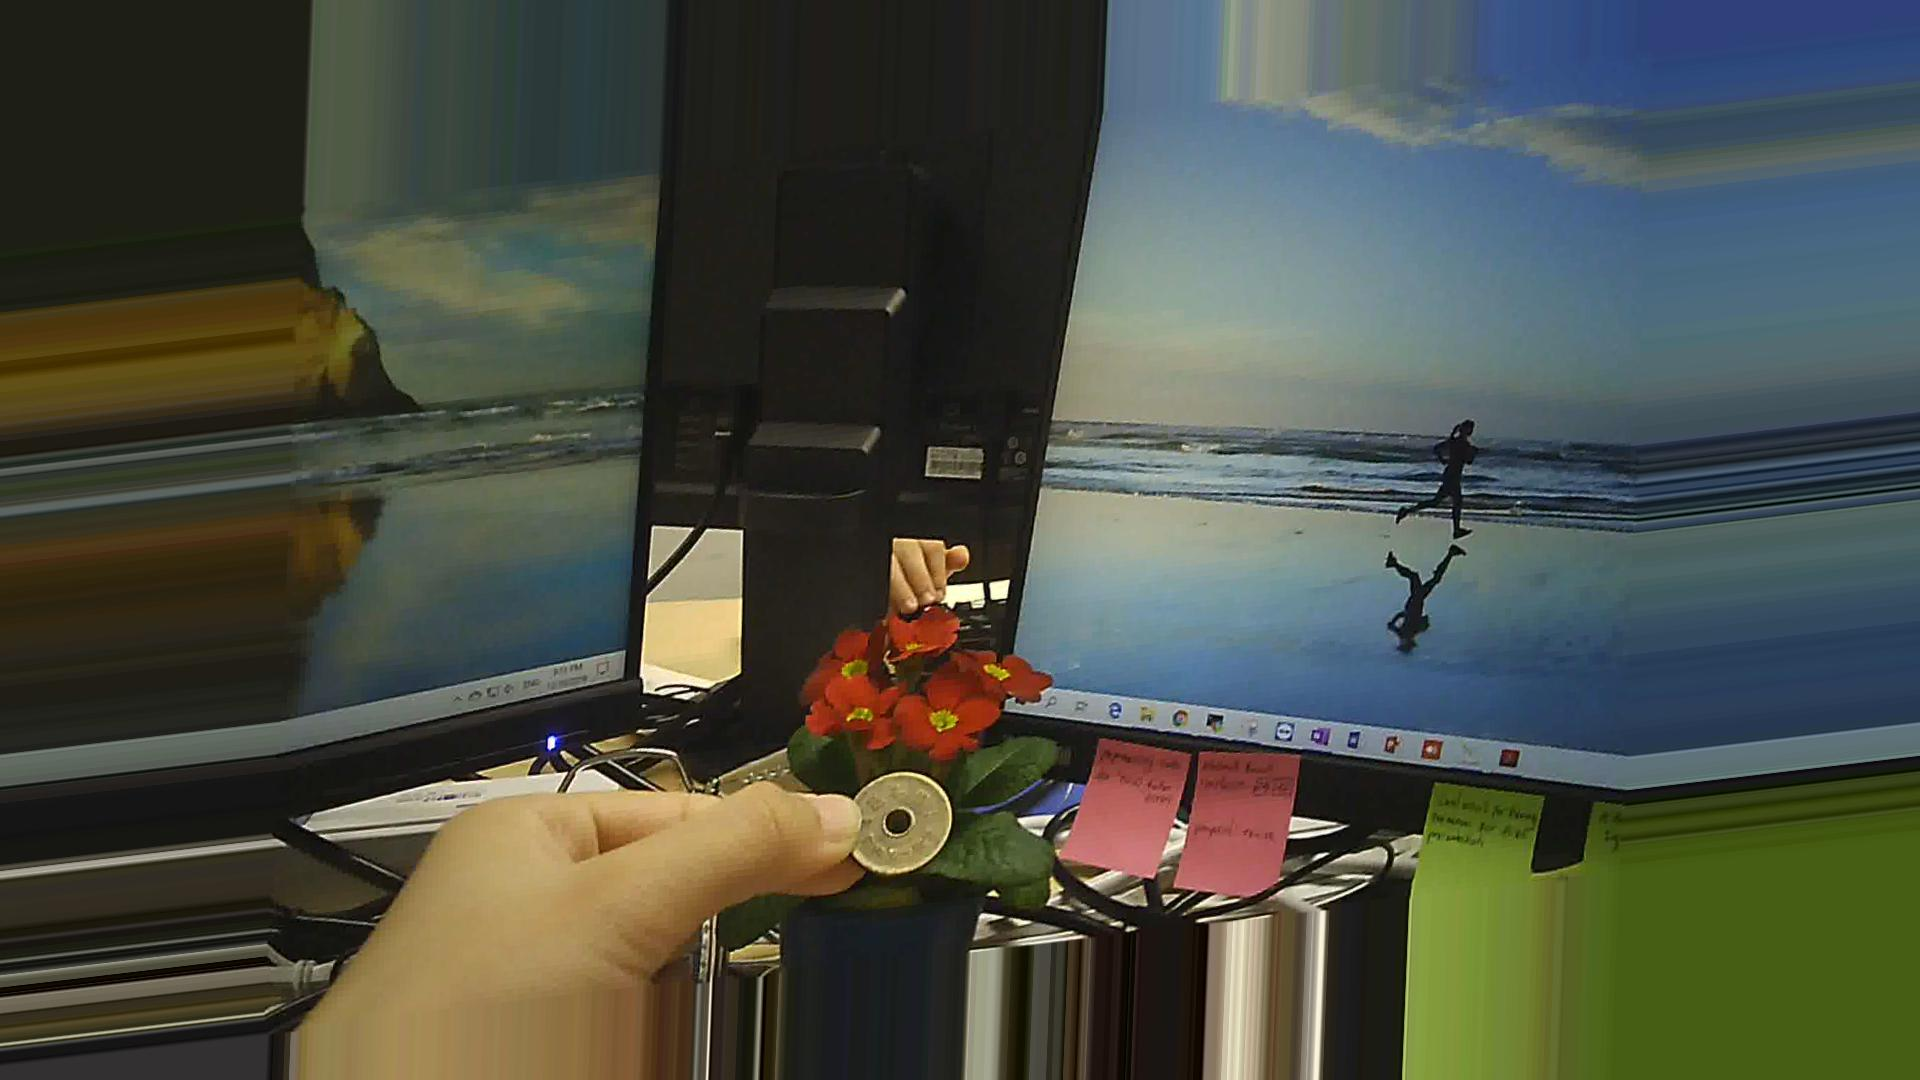5 Yen: (829, 771, 955, 874)
